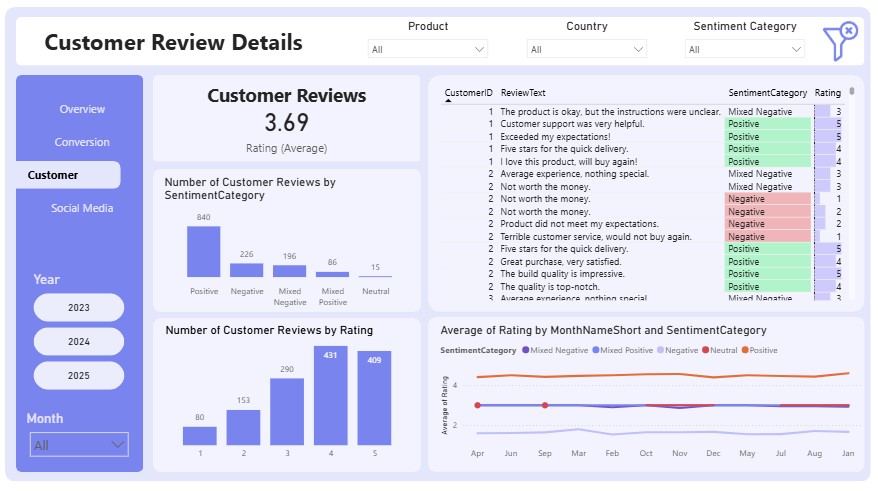

What the dashboard file says about the page in this screenshot:
{"tool":"powerbi","page":{"name":"Customer Review Details","canvas":[1280,720],"ordinal":2},"visuals":[{"type":"shape","box":[16.7,18.3,1246.7,683.3],"z":0},{"type":"shape","box":[33.3,33.3,1221.7,70],"z":1000},{"type":"shape","box":[33.3,116.7,183.3,571.7],"z":2000},{"type":"textbox","box":[33.1,40.3,419,56.2],"z":3000},{"type":"advancedSlicerVisual","fields":{"Values":["Calendar.Year"]},"box":[53.3,398.3,141.7,178.3],"z":4000},{"type":"slicer","title":"Month","fields":{"Values":["Calendar.Date.Variation.Date Hierarchy.Month"]},"box":[43.3,598.3,161.7,68.3],"z":5000},{"type":"actionButton","box":[16.7,145,166.7,40],"z":6000},{"type":"actionButton","box":[16.7,240,166.7,40],"z":7000},{"type":"actionButton","box":[16.7,288.3,166.7,40],"z":8000},{"type":"actionButton","box":[16.7,193.3,166.7,40],"z":9000},{"type":"shape","box":[230,466,386,222],"z":10000},{"type":"image","box":[1186.7,33.3,68.3,70],"z":11000},{"type":"shape","box":[626.7,465.6,628.9,223.3],"z":12000},{"type":"shape","box":[626.7,116.7,628.9,341.1],"z":13000},{"type":"shape","box":[230,252,386,206],"z":14000},{"type":"slicer","title":"Product","fields":{"Values":["dim_products.ProductName"]},"box":[530,36.7,193.3,65],"z":15000},{"type":"columnChart","fields":{"Category":["fact_customer_reviews_with_sentiment.SentimentCategory"],"Y":["_Calculations.Number of Customer Reviews"]},"box":[242,260,364,198],"z":16000},{"type":"shape","box":[230,116.7,385,125],"z":17000},{"type":"card","fields":{"Values":["_Calculations.Rating (Average)"]},"box":[230,148.3,385,88.3],"z":18000},{"type":"textbox","box":[230,121.7,385,58.3],"z":19000},{"type":"tableEx","fields":{"Values":["fact_customer_reviews_with_sentiment.CustomerID","fact_customer_reviews_with_sentiment.ReviewText","fact_customer_reviews_with_sentiment.SentimentCategory","fact_customer_reviews_with_sentiment.Rating"]},"box":[640,128.3,606.7,318.3],"z":20000},{"type":"lineChart","fields":{"Category":["Calendar.MonthNameShort"],"Y":["Avg(fact_customer_reviews_with_sentiment.Rating)"],"Series":["fact_customer_reviews_with_sentiment.SentimentCategory"]},"box":[640,474,617,206],"z":21000},{"type":"columnChart","fields":{"Category":["fact_customer_reviews_with_sentiment.Rating"],"Y":["_Calculations.Number of Customer Reviews"]},"box":[243,474,362,206],"z":22000},{"type":"slicer","title":"Sentiment Category","fields":{"Values":["fact_customer_reviews_with_sentiment.SentimentCategory"]},"box":[986.7,36.7,193.3,65],"z":23000},{"type":"slicer","title":"Country","fields":{"Values":["dim_customers.Country"]},"box":[758.3,36.7,193.3,65],"z":24000}]}

Visuals, with their boxes in screenshot pixels (x1, y1, x2, y2), scaled from the page's 1280x720 canvas onto the 878x491 screenshot:
shape: (left=11, top=12, right=867, bottom=478)
shape: (left=23, top=23, right=861, bottom=70)
shape: (left=23, top=80, right=149, bottom=469)
textbox: (left=23, top=27, right=310, bottom=66)
advancedSlicerVisual - Calendar.Year: (left=37, top=272, right=134, bottom=393)
"Month" slicer: (left=30, top=408, right=141, bottom=455)
actionButton: (left=11, top=99, right=126, bottom=126)
actionButton: (left=11, top=164, right=126, bottom=191)
actionButton: (left=11, top=197, right=126, bottom=224)
actionButton: (left=11, top=132, right=126, bottom=159)
shape: (left=158, top=318, right=423, bottom=469)
image: (left=814, top=23, right=861, bottom=70)
shape: (left=430, top=318, right=861, bottom=470)
shape: (left=430, top=80, right=861, bottom=312)
shape: (left=158, top=172, right=423, bottom=312)
"Product" slicer: (left=364, top=25, right=496, bottom=69)
columnChart - fact_customer_reviews_with_sentiment.SentimentCategory x _Calculations.Number of Customer Reviews: (left=166, top=177, right=416, bottom=312)
shape: (left=158, top=80, right=422, bottom=165)
card - _Calculations.Rating (Average): (left=158, top=101, right=422, bottom=161)
textbox: (left=158, top=83, right=422, bottom=123)
tableEx - fact_customer_reviews_with_sentiment.CustomerID x fact_customer_reviews_with_sentiment.ReviewText: (left=439, top=87, right=855, bottom=305)
lineChart - Calendar.MonthNameShort x Avg(fact_customer_reviews_with_sentiment.Rating): (left=439, top=323, right=862, bottom=464)
columnChart - fact_customer_reviews_with_sentiment.Rating x _Calculations.Number of Customer Reviews: (left=167, top=323, right=415, bottom=464)
"Sentiment Category" slicer: (left=677, top=25, right=809, bottom=69)
"Country" slicer: (left=520, top=25, right=653, bottom=69)
